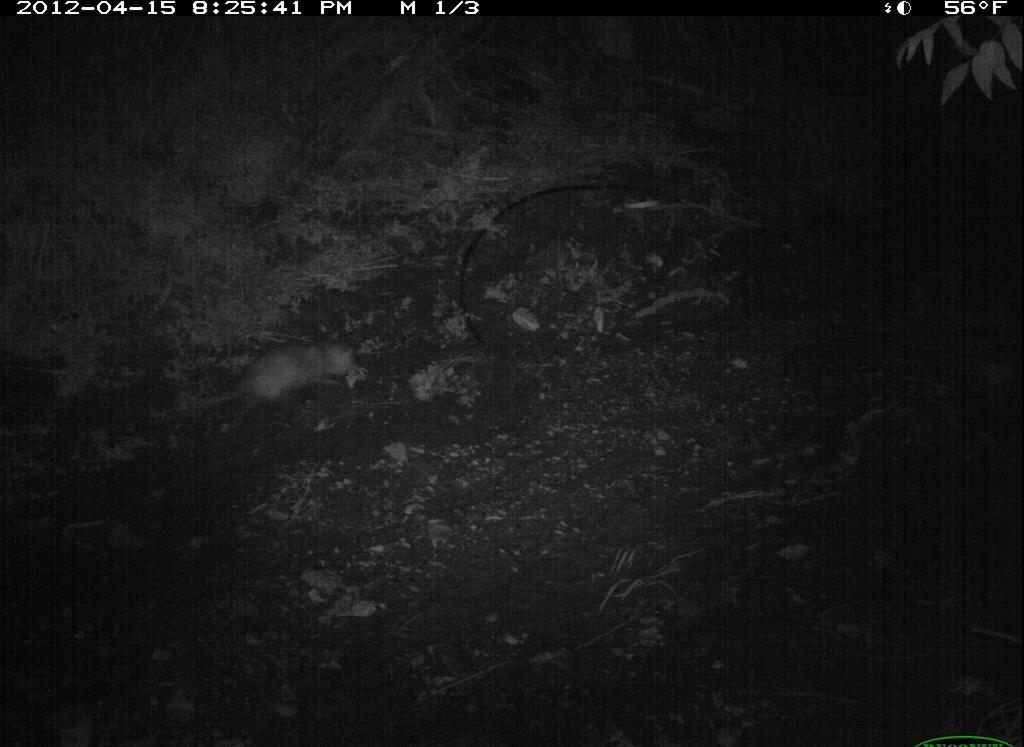opossum: (154, 324, 381, 418)
